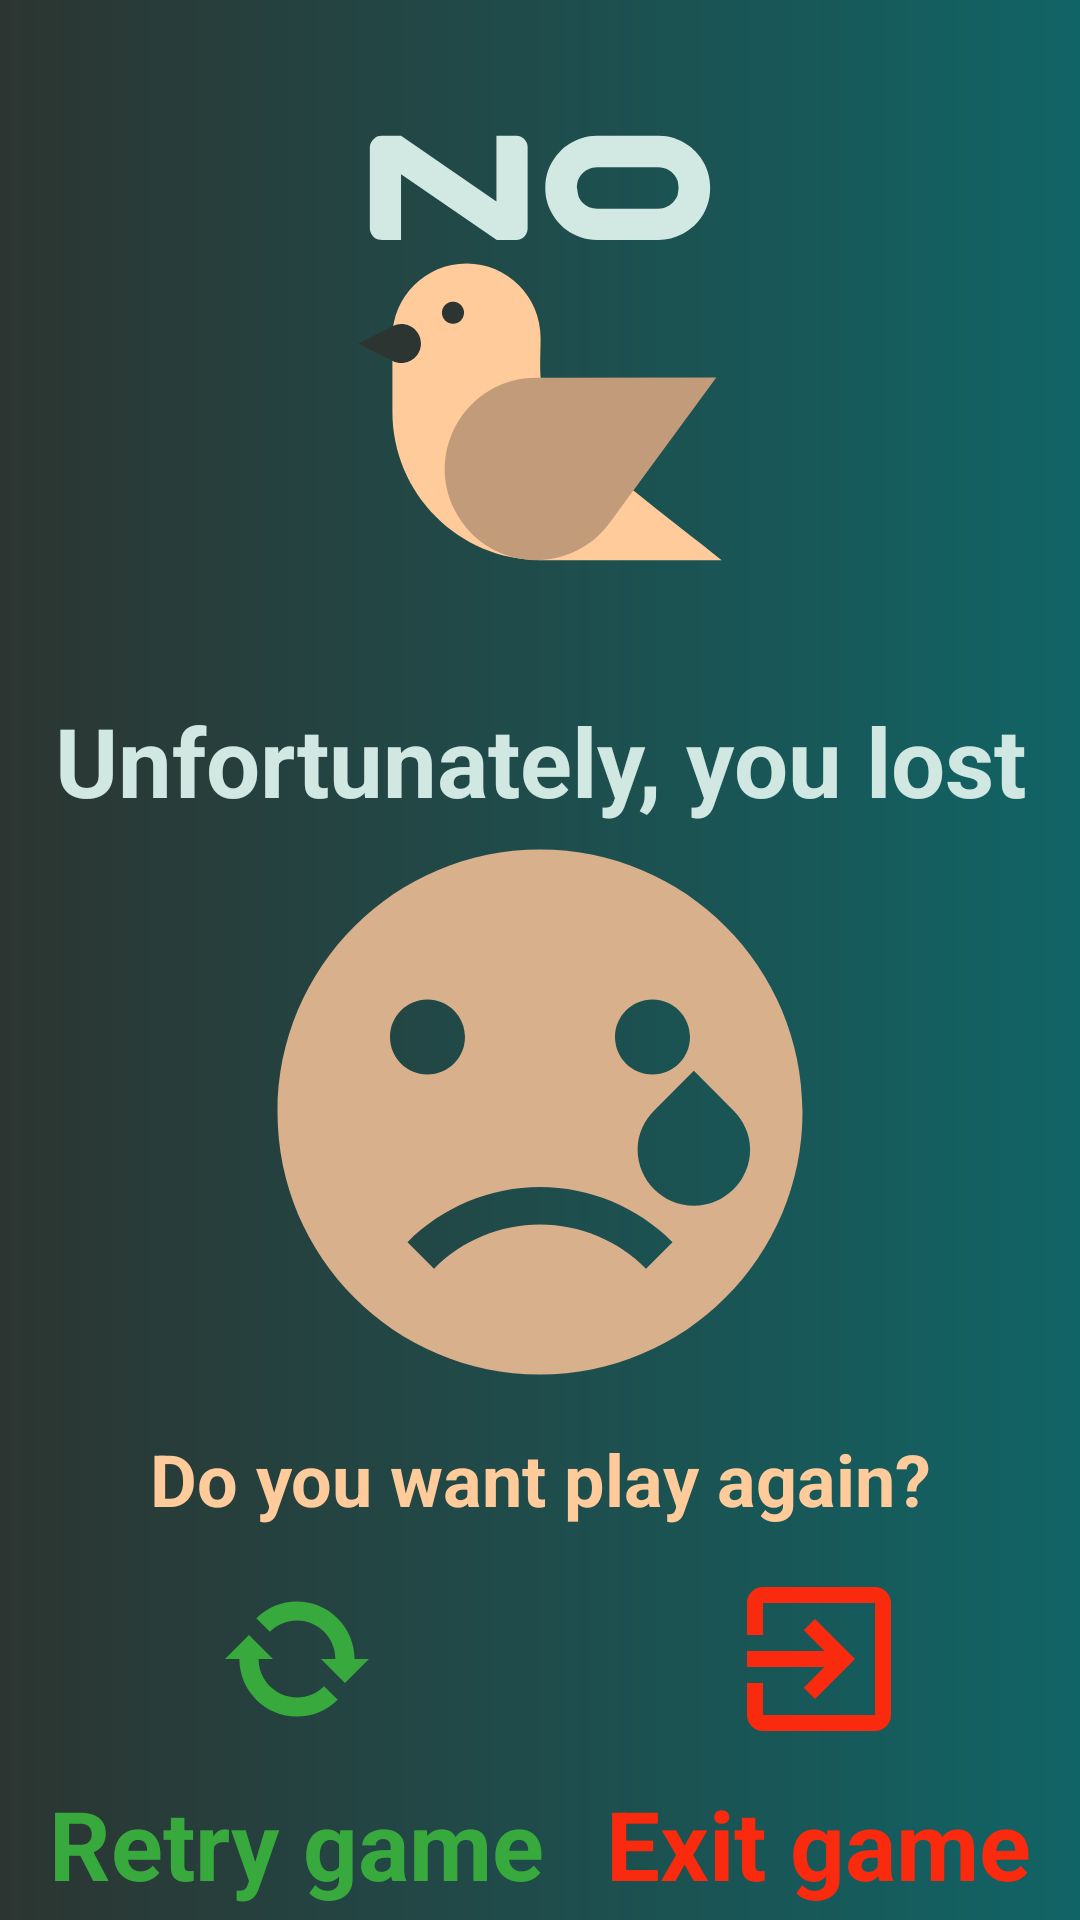

Named icons in this screenshot (1080x1920) and their centers, point (x, y):
reload: point (297, 1659)
